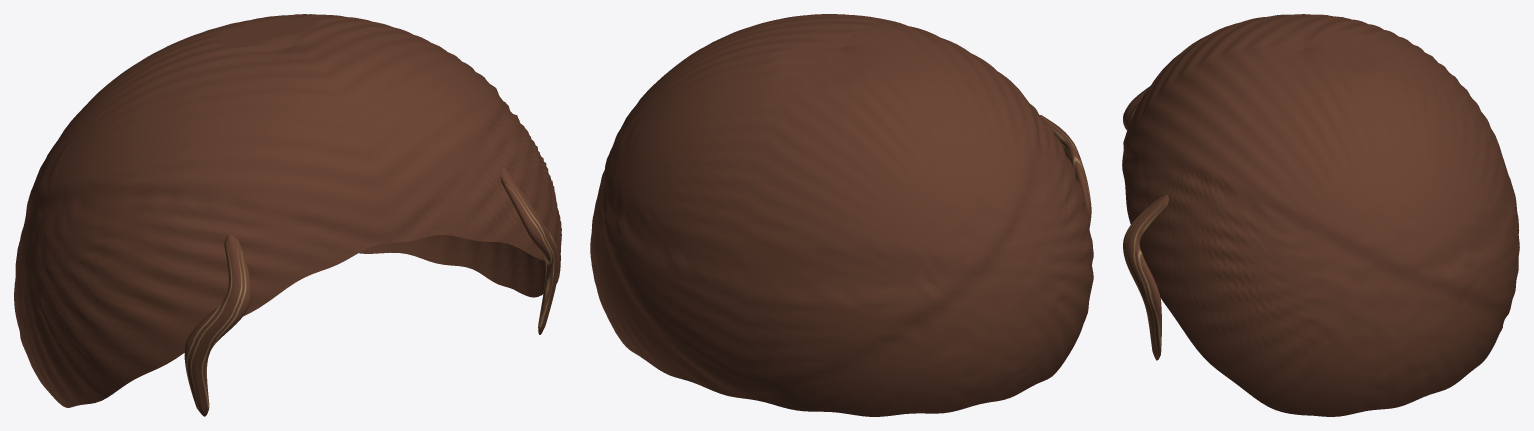
Rendered from Highlights-2040dfdb3eb7252-hair.glb.
The picture shows the model from 3 angles, left to right: view 1: azimuth 30°, elevation 25°; view 2: azimuth 150°, elevation 25°; view 3: azimuth 270°, elevation 25°; orthographic projection. The views are drawn at different scales.
Visible parts, largest first — view 1: 226 hair / Hair / chestnut226.002; view 2: 226 hair / Hair / chestnut226.002; view 3: 226 hair / Hair / chestnut226.002.
Boxes of the visible parts, <box> form: 226 hair / Hair / chestnut226.002: <box>14,14,561,416</box>; 226 hair / Hair / chestnut226.002: <box>590,14,1093,416</box>; 226 hair / Hair / chestnut226.002: <box>1122,14,1519,416</box>.
Bounding box in the file's own units: 0.9981 × 0.5988 × 0.7846.
Materials: 1 (1 with a texture image).
